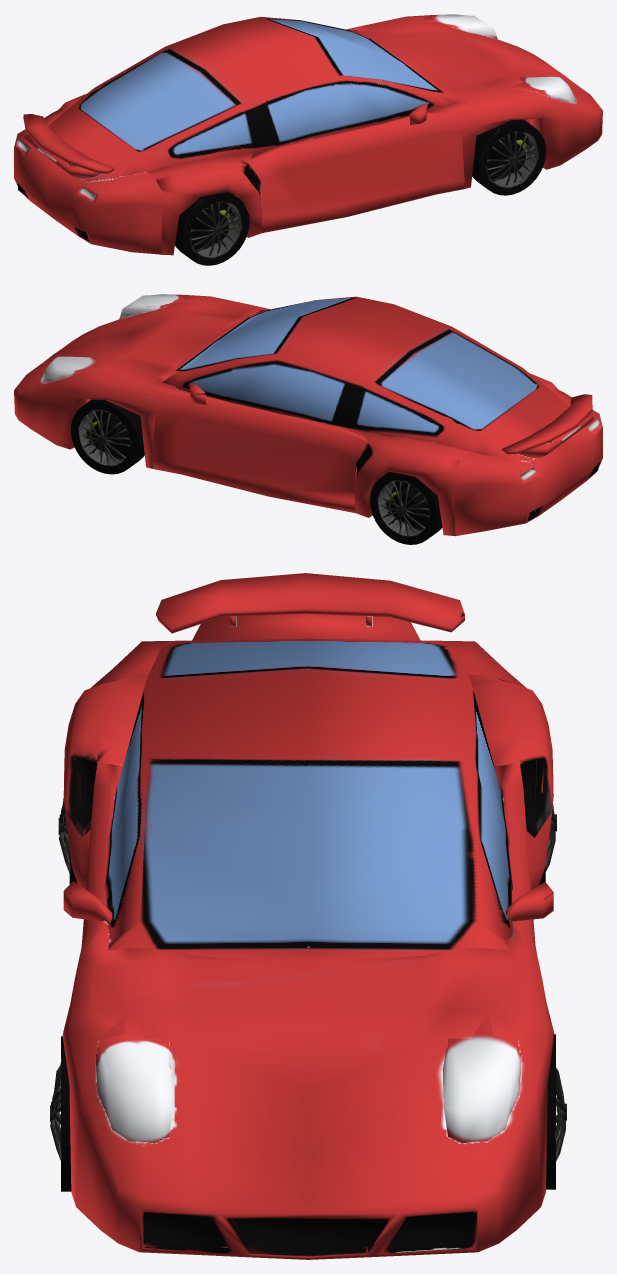
File: porsche.gltf
3 views of the same model, one above another, from view 1: azimuth 30°, elevation 25°; view 2: azimuth 150°, elevation 25°; view 3: azimuth 270°, elevation 25° (orthographic). The views are drawn at different scales.
Visible parts, largest first — view 1: porsche, Cube.002, Cube.003; view 2: porsche, Cube.004, Cube.001; view 3: porsche, Cube.002, Cube.004.
Boxes of the visible parts, x1,y1,x2,y2 form: porsche: [14, 14, 602, 255]; Cube.002: [472, 119, 546, 195]; Cube.003: [175, 192, 249, 265]; porsche: [14, 294, 602, 536]; Cube.004: [70, 399, 144, 474]; Cube.001: [370, 472, 442, 544]; porsche: [62, 573, 554, 1259]; Cube.002: [50, 1036, 71, 1191]; Cube.004: [546, 1034, 566, 1189].
Size of the model in its own units: 6.72 by 1.78 by 2.86.
Materials: 2 (2 with a texture image).
